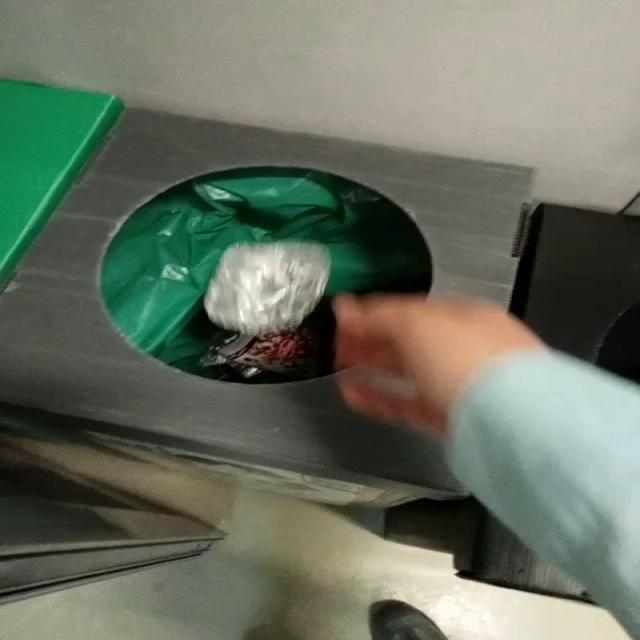Bin: (1, 109, 533, 502)
Metal: (204, 242, 331, 336)
